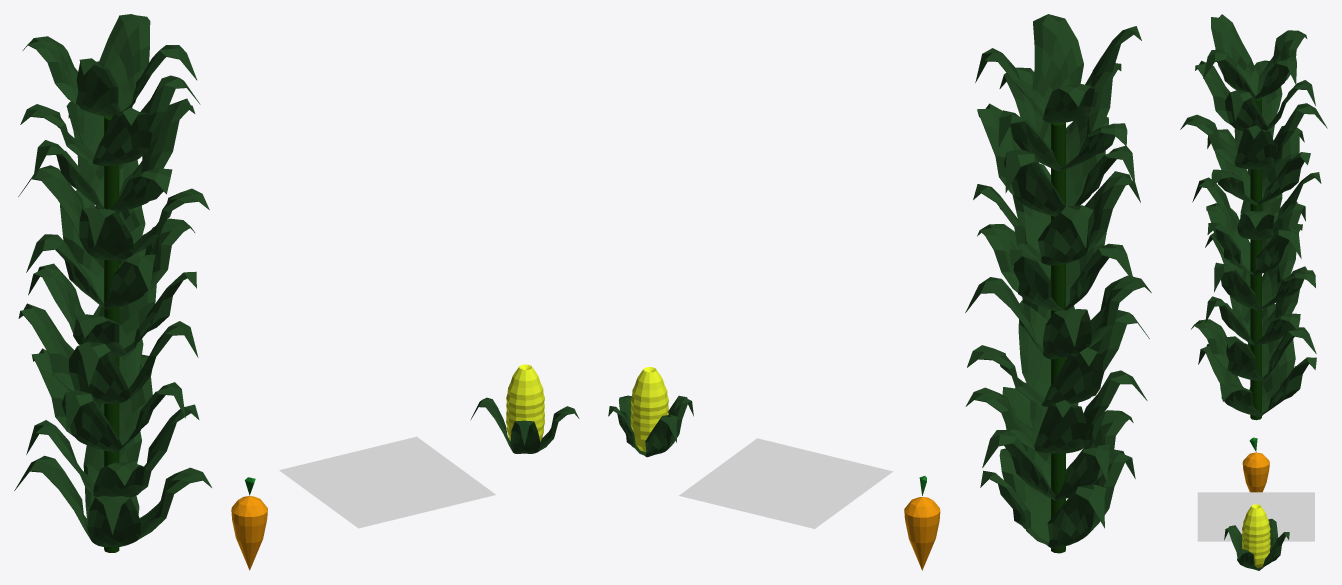
The model's file is Crops.fbx.
The picture shows the model from 3 angles, left to right: view 1: azimuth 30°, elevation 25°; view 2: azimuth 150°, elevation 25°; view 3: azimuth 270°, elevation 25°; orthographic projection. The views are drawn at different scales.
Parts seen in each view (by area): view 1: Leaves, Ref, Cornstalk, Corn, Carrot, Leaves.001; view 2: Leaves, Ref, Cornstalk, Corn, Leaves.001, Carrot; view 3: Leaves, Ref, Cornstalk, Corn, Leaves.001, Carrot.
Part boxes in pixels (<box>): Leaves: <box>14,14,211,547</box>; Ref: <box>279,436,495,528</box>; Cornstalk: <box>104,116,119,552</box>; Corn: <box>506,364,544,441</box>; Carrot: <box>231,477,267,570</box>; Leaves.001: <box>470,397,579,453</box>; Leaves: <box>965,14,1151,548</box>; Ref: <box>679,438,893,528</box>; Cornstalk: <box>1051,122,1065,553</box>; Corn: <box>630,367,668,451</box>; Leaves.001: <box>608,395,693,457</box>; Carrot: <box>904,476,940,570</box>; Leaves: <box>1180,14,1327,416</box>; Ref: <box>1197,492,1314,541</box>; Cornstalk: <box>1250,97,1261,420</box>; Corn: <box>1242,504,1270,567</box>; Leaves.001: <box>1224,518,1289,570</box>; Carrot: <box>1242,437,1269,492</box>.
Bounding box in the file's own units: 778 × 797 × 251.
